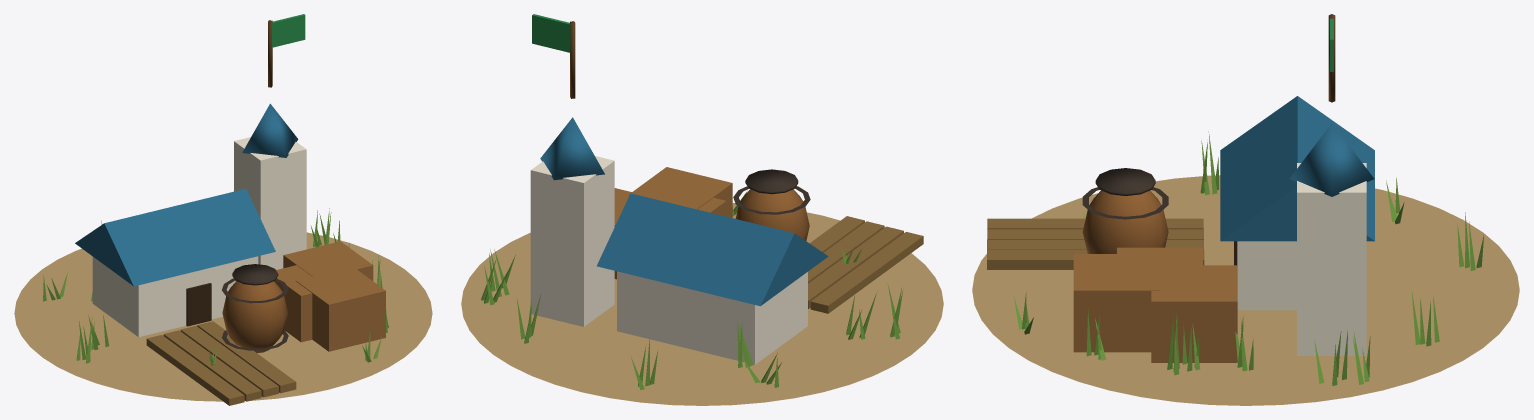
File: improvement_feitoria.fbx
3 renders of one model, left to right at view 1: azimuth 30°, elevation 25°; view 2: azimuth 150°, elevation 25°; view 3: azimuth 270°, elevation 25°, orthographic. The views are drawn at different scales.
Parts seen in each view (by area): view 1: improvement_feitoria_gpatch#b89a68r.001_00, improvement_feitoria_fr_03, improvement_feitoria_fw_02, improvement_feitoria_wood#9a6a38.004_08, improvement_feitoria_fpier_07, improvement_feitoria_wood#8a5a2c.014_09, improvement_feitoria_leaf#6a9a3a.017_01, improvement_feitoria_hoop.003_10, improvement_feitoria_door.008_04, improvement_feitoria_flag#2a8a4a_06; view 2: improvement_feitoria_gpatch#b89a68r.001_00, improvement_feitoria_fw_02, improvement_feitoria_fr_03, improvement_feitoria_fpier_07, improvement_feitoria_wood#9a6a38.004_08, improvement_feitoria_leaf#6a9a3a.017_01, improvement_feitoria_wood#8a5a2c.014_09, improvement_feitoria_hoop.003_10, improvement_feitoria_flag#2a8a4a_06, improvement_feitoria_wood#5a3c1c.003_05; view 3: improvement_feitoria_gpatch#b89a68r.001_00, improvement_feitoria_wood#9a6a38.004_08, improvement_feitoria_fw_02, improvement_feitoria_fr_03, improvement_feitoria_fpier_07, improvement_feitoria_leaf#6a9a3a.017_01, improvement_feitoria_wood#8a5a2c.014_09, improvement_feitoria_hoop.003_10, improvement_feitoria_wood#5a3c1c.003_05.
Boxes of the visible parts, bbox=[...] form: improvement_feitoria_gpatch#b89a68r.001_00: bbox=[14, 232, 432, 401]; improvement_feitoria_fr_03: bbox=[75, 103, 298, 286]; improvement_feitoria_fw_02: bbox=[92, 137, 306, 337]; improvement_feitoria_wood#9a6a38.004_08: bbox=[274, 241, 385, 351]; improvement_feitoria_fpier_07: bbox=[146, 321, 296, 405]; improvement_feitoria_wood#8a5a2c.014_09: bbox=[222, 281, 287, 352]; improvement_feitoria_leaf#6a9a3a.017_01: bbox=[43, 208, 388, 365]; improvement_feitoria_hoop.003_10: bbox=[221, 264, 288, 350]; improvement_feitoria_door.008_04: bbox=[186, 283, 211, 326]; improvement_feitoria_flag#2a8a4a_06: bbox=[272, 14, 305, 47]; improvement_feitoria_gpatch#b89a68r.001_00: bbox=[461, 203, 943, 405]; improvement_feitoria_fw_02: bbox=[530, 156, 807, 364]; improvement_feitoria_fr_03: bbox=[540, 117, 828, 306]; improvement_feitoria_fpier_07: bbox=[808, 216, 923, 313]; improvement_feitoria_wood#9a6a38.004_08: bbox=[614, 167, 732, 279]; improvement_feitoria_leaf#6a9a3a.017_01: bbox=[481, 190, 903, 389]; improvement_feitoria_wood#8a5a2c.014_09: bbox=[735, 189, 809, 240]; improvement_feitoria_hoop.003_10: bbox=[733, 169, 810, 214]; improvement_feitoria_flag#2a8a4a_06: bbox=[532, 14, 570, 52]; improvement_feitoria_wood#5a3c1c.003_05: bbox=[570, 21, 575, 98]; improvement_feitoria_gpatch#b89a68r.001_00: bbox=[972, 175, 1519, 405]; improvement_feitoria_wood#9a6a38.004_08: bbox=[1073, 247, 1237, 362]; improvement_feitoria_fw_02: bbox=[1237, 163, 1366, 355]; improvement_feitoria_fr_03: bbox=[1220, 96, 1374, 241]; improvement_feitoria_fpier_07: bbox=[987, 218, 1204, 269]; improvement_feitoria_leaf#6a9a3a.017_01: bbox=[1013, 131, 1483, 385]; improvement_feitoria_wood#8a5a2c.014_09: bbox=[1082, 190, 1168, 253]; improvement_feitoria_hoop.003_10: bbox=[1082, 168, 1168, 219]; improvement_feitoria_wood#5a3c1c.003_05: bbox=[1328, 14, 1335, 102].
Bounding box in the file's own units: 127 × 84.4 × 127.
